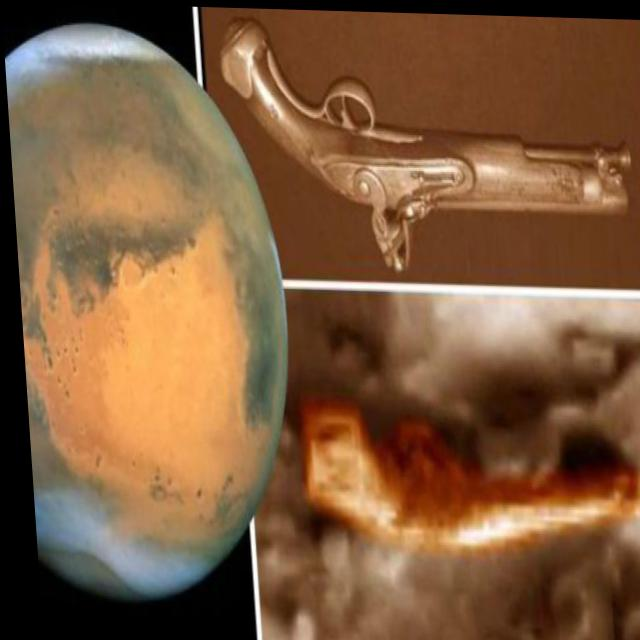handgun: (219, 25, 634, 271)
